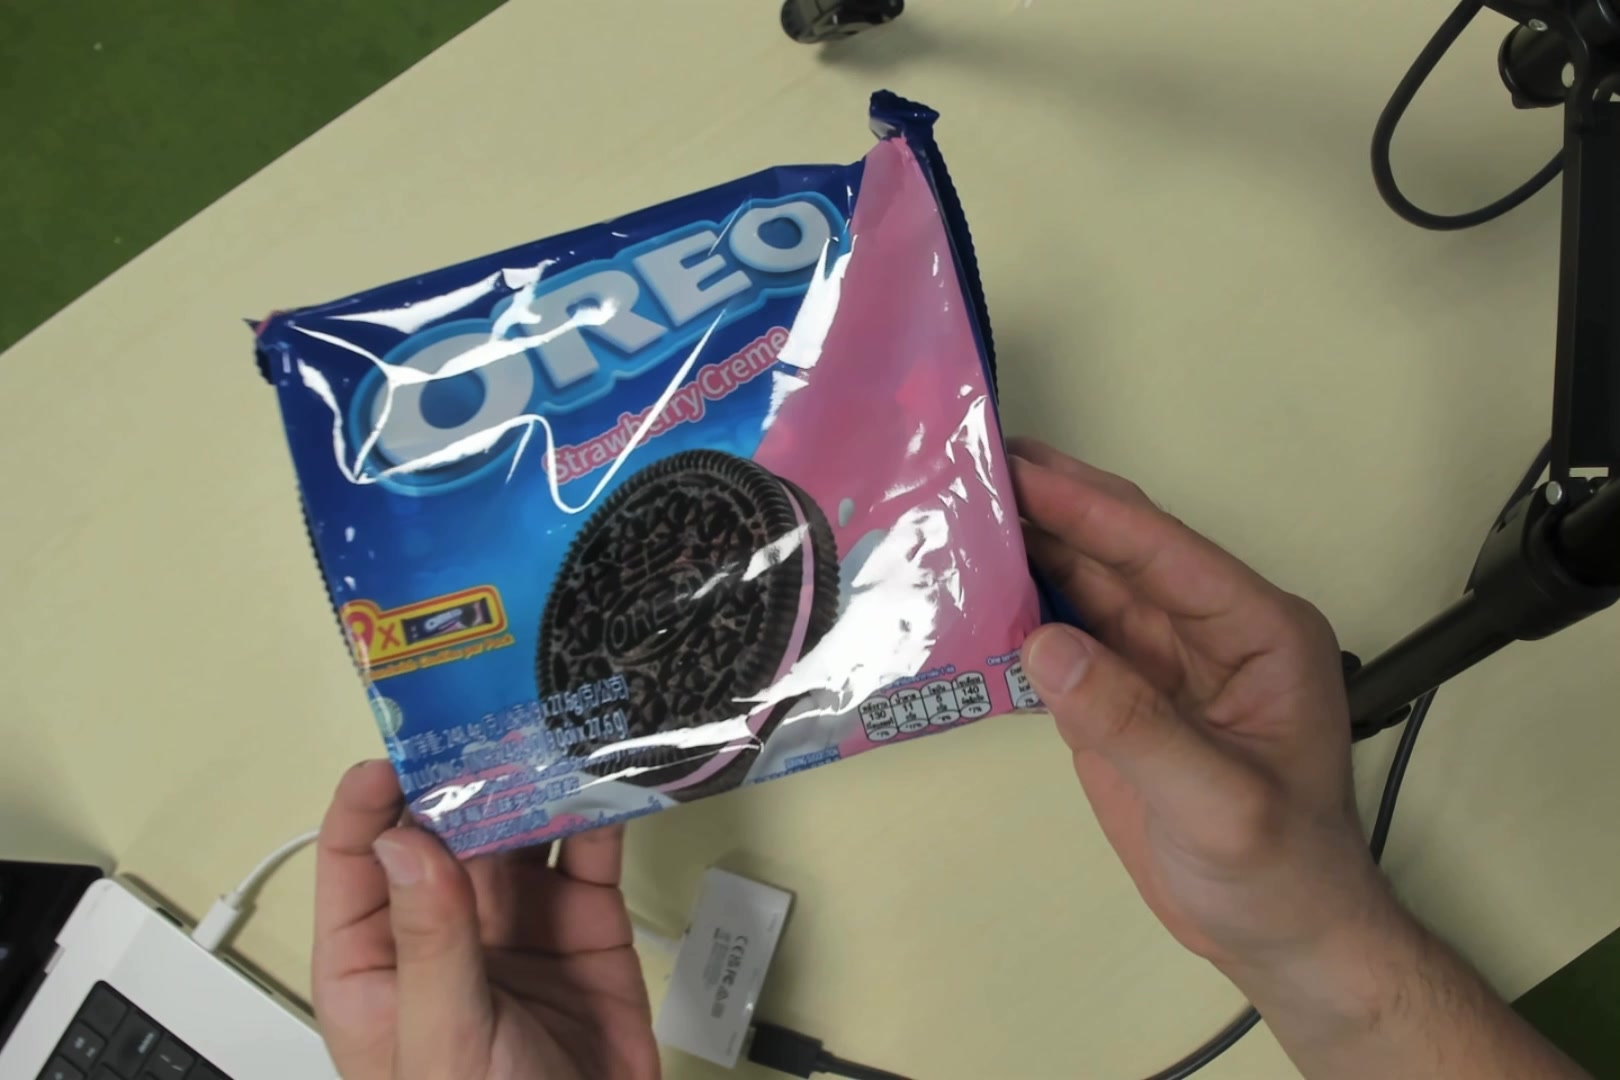SweetsChocolatesOthers_200-299g_Halal_NonHealthy: (327, 210, 1011, 790)
